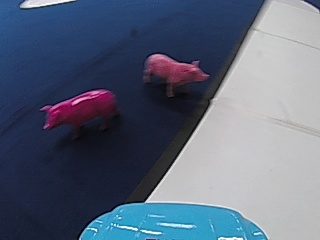pig: (36, 85, 120, 133), (142, 51, 211, 97)
